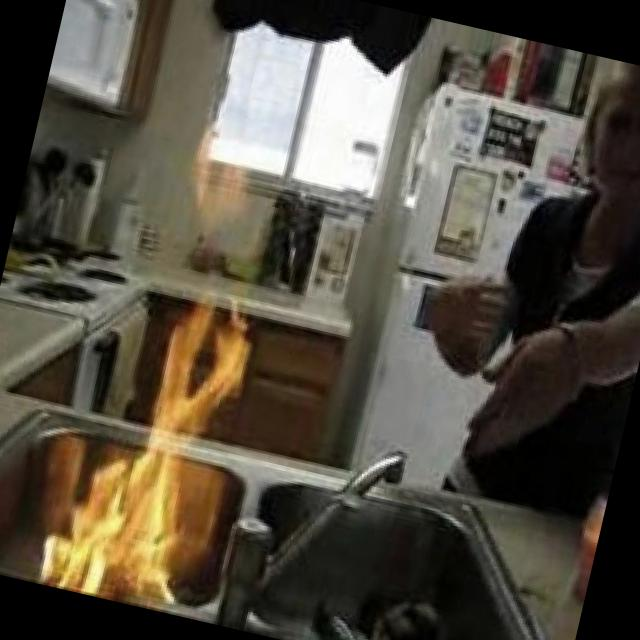fire: (41, 270, 260, 618), (169, 108, 282, 242)
